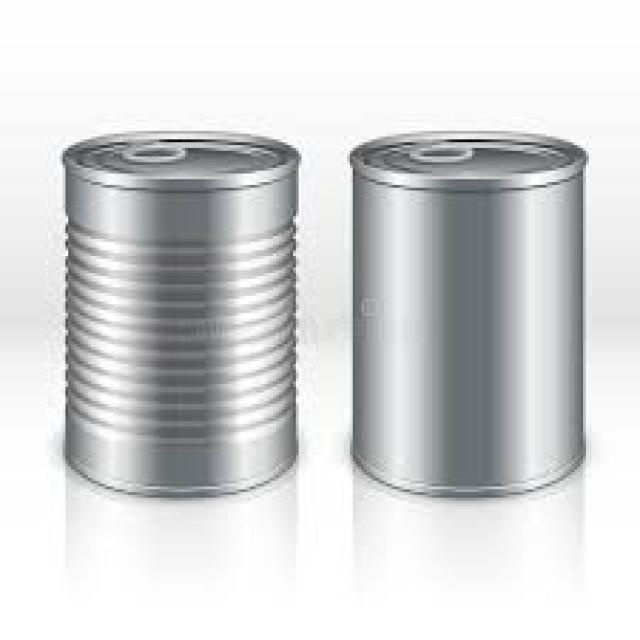metal: (344, 128, 583, 498), (60, 128, 296, 495)
